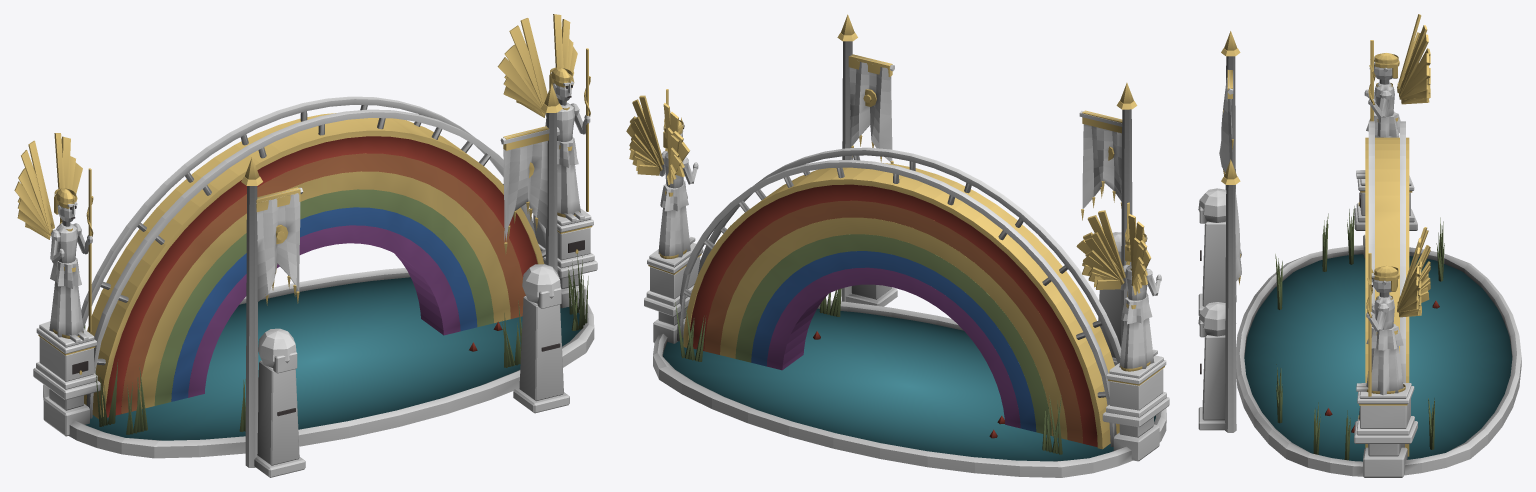
Rendered from iris-bridge-l2.glb.
The picture shows the model from 3 angles, left to right: view 1: azimuth 30°, elevation 25°; view 2: azimuth 150°, elevation 25°; view 3: azimuth 270°, elevation 25°; orthographic projection. The views are drawn at different scales.
Visible parts, largest first — view 1: iris-bridge-l2; view 2: iris-bridge-l2; view 3: iris-bridge-l2.
Boxes of the visible parts, x1,y1,x2,y2 form: iris-bridge-l2: (14,14,597,477); iris-bridge-l2: (626,14,1169,477); iris-bridge-l2: (1198,14,1521,477).
Bounding box in the file's own units: 1.72 × 0.9044 × 0.975.
